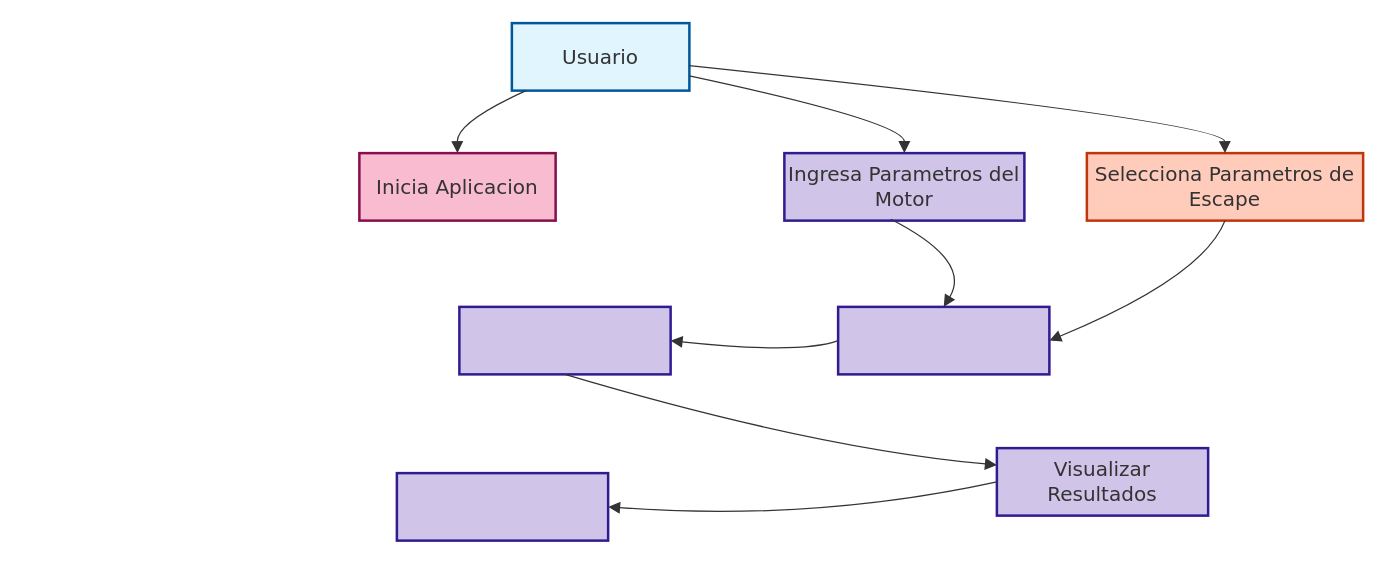
The diagram is 1385 pixels wide and 563 high, and some of its shapes have lost their labels. Here are the shapes that lost their labels. From the top down, the centre of each, then its label:
the point at 564,340: Validar Parametros
the point at 943,340: Calcular Escape
the point at 502,506: Ver Grafico
